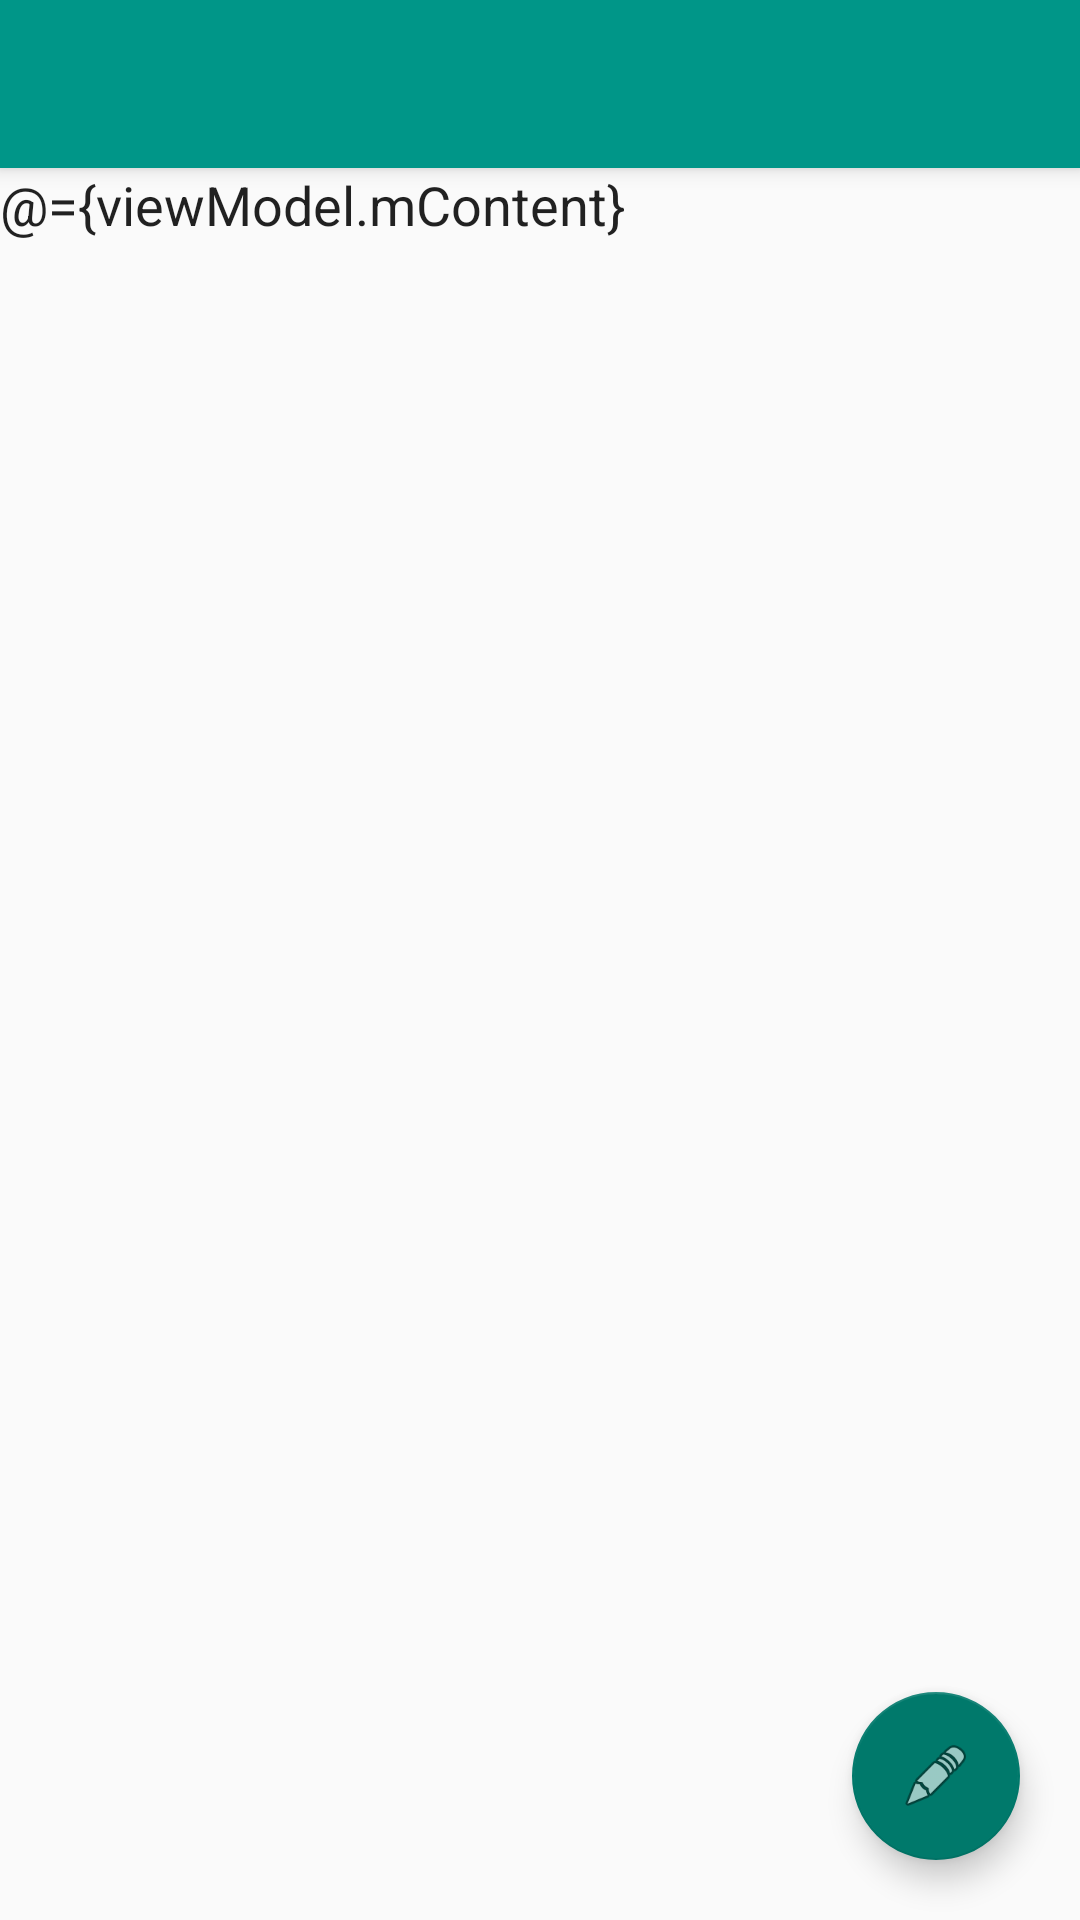

Named icons in this screenshot (1080w x 1920h) and their centers, (x=x, y=y):
edit: (x=936, y=1776)
